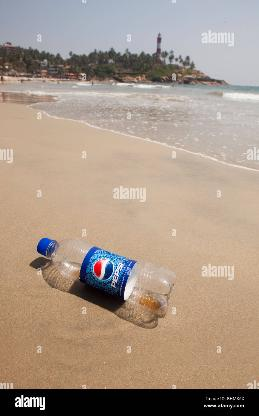Plastic Bottle: (35, 221, 181, 325)
